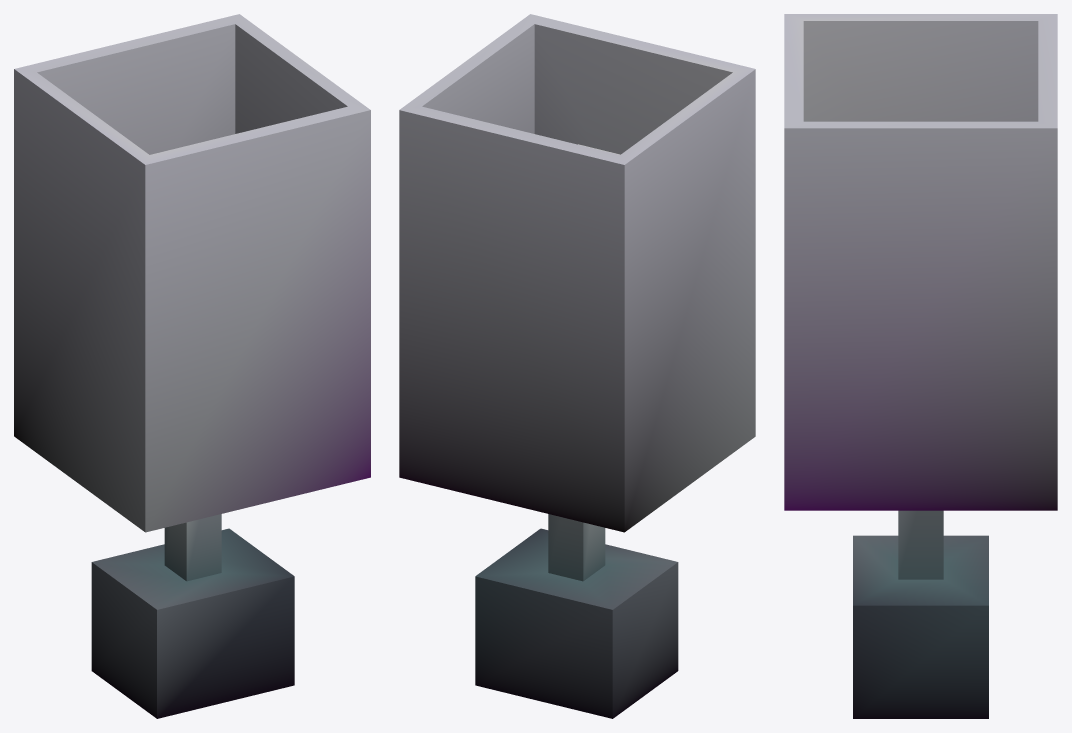
File: boxy_lamp 1.FBX
3 views of the same model, side by side, from view 1: azimuth 30°, elevation 25°; view 2: azimuth 150°, elevation 25°; view 3: azimuth 270°, elevation 25° (orthographic). The views are drawn at different scales.
Parts seen in each view (by area): view 1: shade, boxy lamp; view 2: shade, boxy lamp; view 3: shade, boxy lamp.
Boxes of the visible parts, x1,y1,x2,y2 form: shade: (14, 14, 370, 532); boxy lamp: (91, 514, 294, 718); shade: (399, 14, 755, 532); boxy lamp: (475, 514, 678, 718); shade: (784, 14, 1057, 510); boxy lamp: (853, 510, 988, 718).
Bounding box in the file's own units: 0.3673 × 0.917 × 0.3704.
